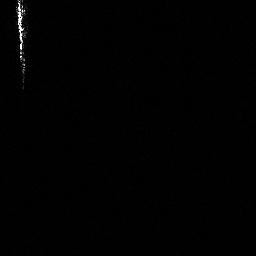ship: (12, 1, 32, 90)
